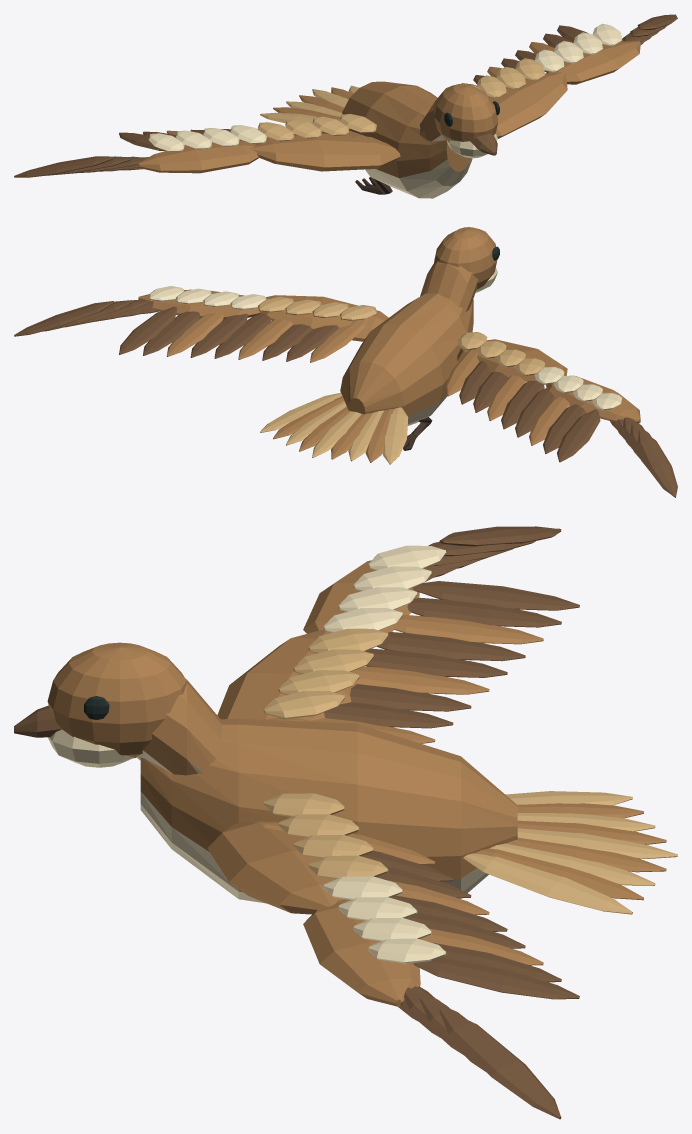
Rendered from sapeornis.glb.
The picture shows the model from 3 angles, top to bottom: view 1: azimuth 30°, elevation 25°; view 2: azimuth 150°, elevation 25°; view 3: azimuth 270°, elevation 25°; orthographic projection. The views are drawn at different scales.
Parts seen in each view (by area): view 1: feathered-body, left-wing-arm, head, right-wing-arm, left-wing-hand, right-wing-hand, left-primary-6, left-covert-0, left-covert-2, neck, left-covert-1, left-covert-3 (+22 smaller); view 2: feathered-body, head, neck, right-wing-arm, left-primary-6, left-wing-hand, left-wing-arm, left-secondary-8, right-wing-hand, right-secondary-8, right-primary-6, tail-fan-0 (+30 smaller); view 3: feathered-body, head, right-wing-arm, right-wing-hand, neck, left-wing-arm, right-primary-6, tail-fan-8, right-secondary-8, left-secondary-8, left-secondary-7, left-secondary-6 (+41 smaller).
Part boxes in pixels (x1,y1,x2,y2): feathered-body: (342, 81, 472, 198); left-wing-arm: (250, 133, 400, 171); head: (433, 83, 497, 141); right-wing-arm: (489, 72, 567, 138); left-wing-hand: (138, 140, 258, 173); right-wing-hand: (546, 41, 640, 84); left-primary-6: (14, 156, 114, 177); left-covert-0: (339, 114, 376, 133); left-covert-2: (285, 119, 321, 138); neck: (419, 100, 445, 141); left-covert-1: (312, 116, 349, 135); left-covert-3: (258, 122, 294, 141); feathered-body: (340, 293, 473, 425); head: (434, 227, 497, 289); neck: (420, 261, 478, 311); right-wing-arm: (259, 295, 388, 341); left-primary-6: (637, 429, 677, 497); left-wing-hand: (546, 376, 640, 423); left-wing-arm: (457, 339, 567, 384); left-secondary-8: (557, 409, 600, 462); right-wing-hand: (138, 289, 260, 319); right-secondary-8: (119, 306, 177, 354); right-primary-6: (14, 301, 114, 336); tail-fan-0: (382, 407, 408, 464); feathered-body: (140, 718, 517, 903); head: (47, 642, 187, 758); right-wing-arm: (207, 820, 350, 914); right-wing-hand: (303, 899, 420, 1007); neck: (136, 679, 221, 775); left-wing-arm: (217, 629, 356, 720); right-primary-6: (439, 1008, 561, 1119); tail-fan-8: (463, 853, 632, 914); right-secondary-8: (413, 958, 579, 999); left-secondary-8: (412, 581, 579, 610); left-secondary-7: (407, 597, 561, 627); left-secondary-6: (393, 614, 543, 644).
Size of the model in its own units: 0.9432 by 0.211 by 0.4499.
